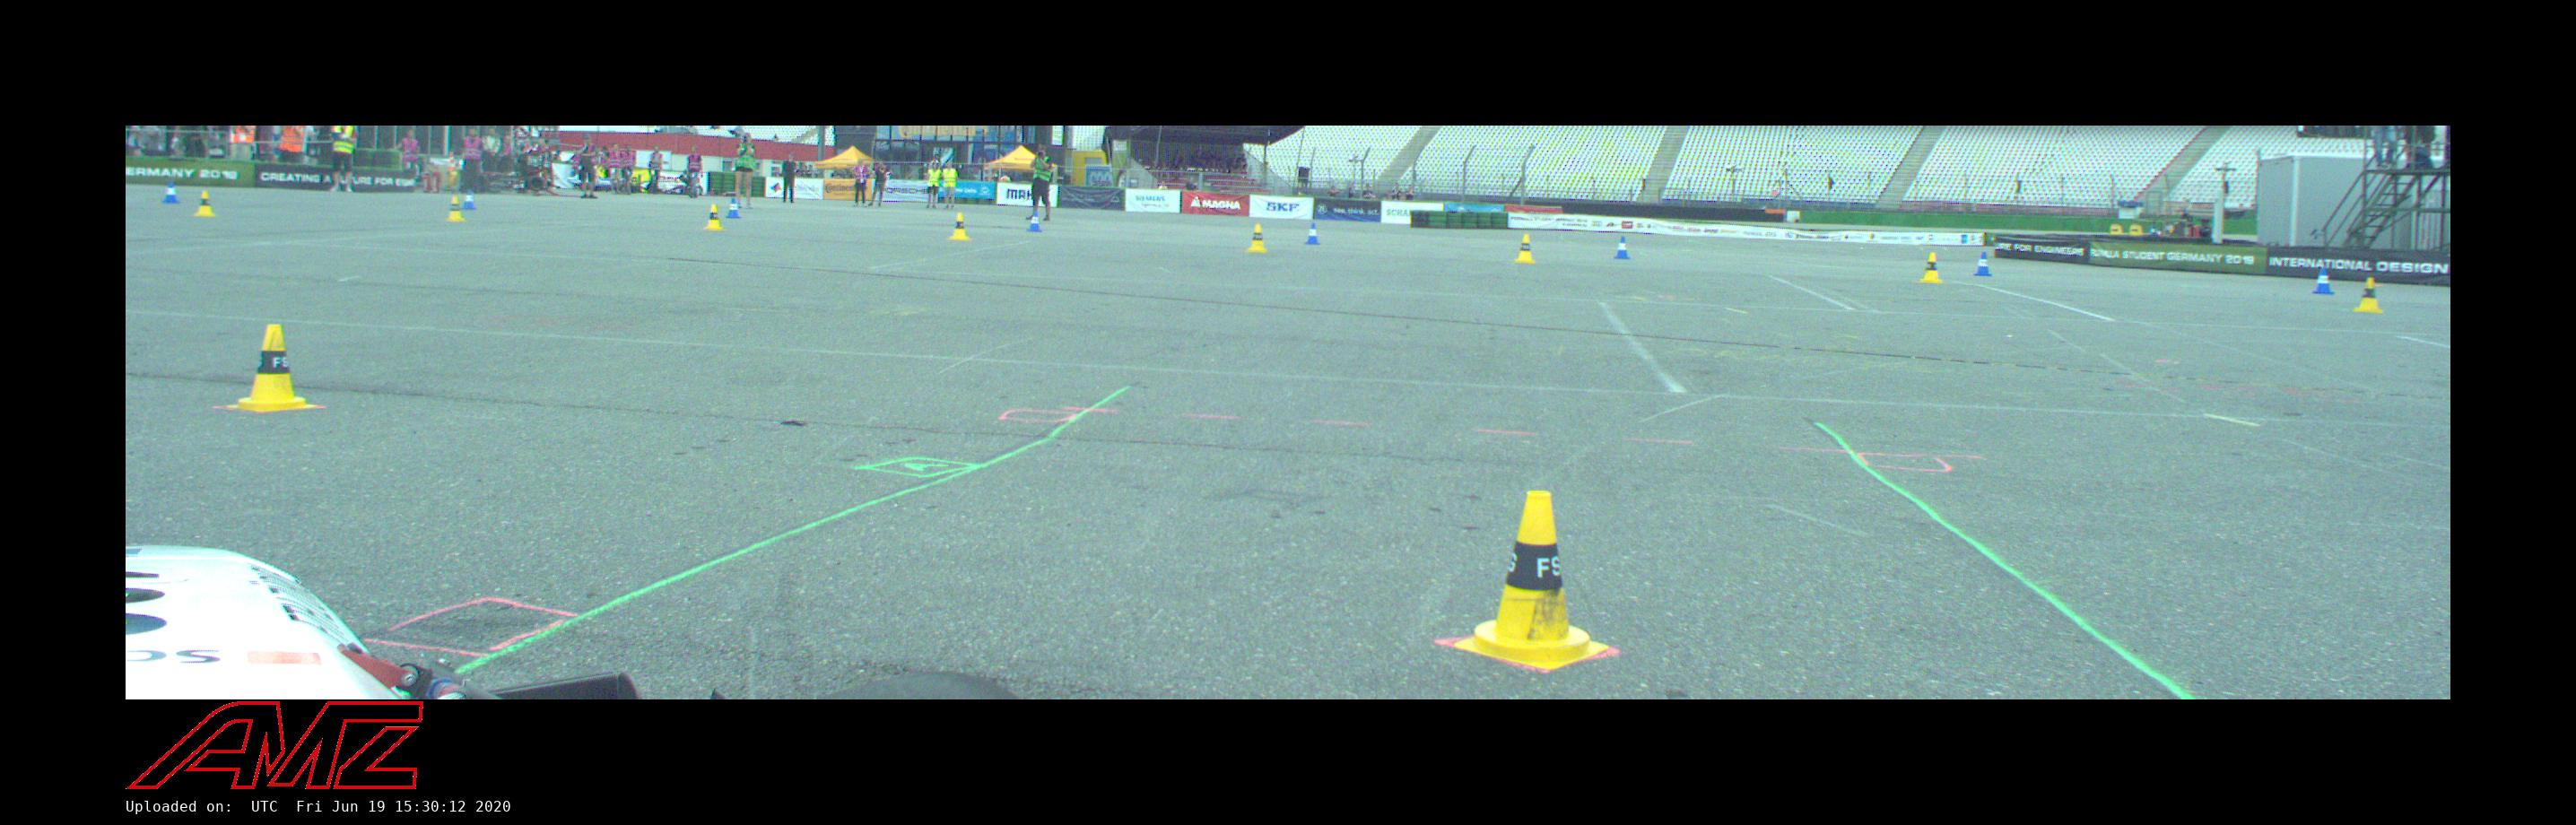blue_cone: (2312, 268, 2334, 294), (1975, 251, 1993, 276), (1613, 237, 1631, 260), (163, 181, 179, 204), (1304, 224, 1321, 245), (462, 189, 476, 210), (1027, 212, 1042, 232), (726, 199, 741, 219)
yellow_cone: (1454, 491, 1608, 669), (228, 325, 317, 411), (2354, 278, 2384, 312), (1919, 253, 1944, 283), (192, 191, 217, 217), (1247, 224, 1267, 253), (950, 214, 971, 240), (445, 196, 467, 222), (1515, 235, 1534, 263), (705, 204, 724, 230)
